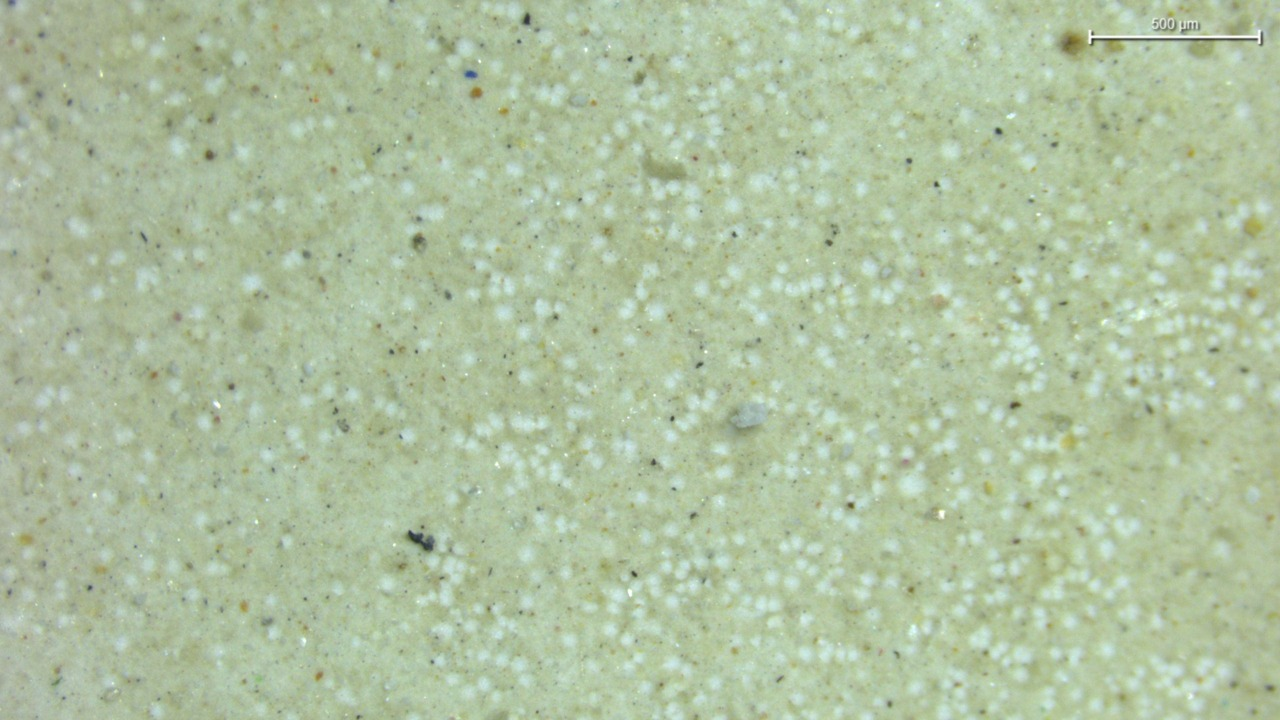microplastic_fragment: (730, 402, 767, 428)
